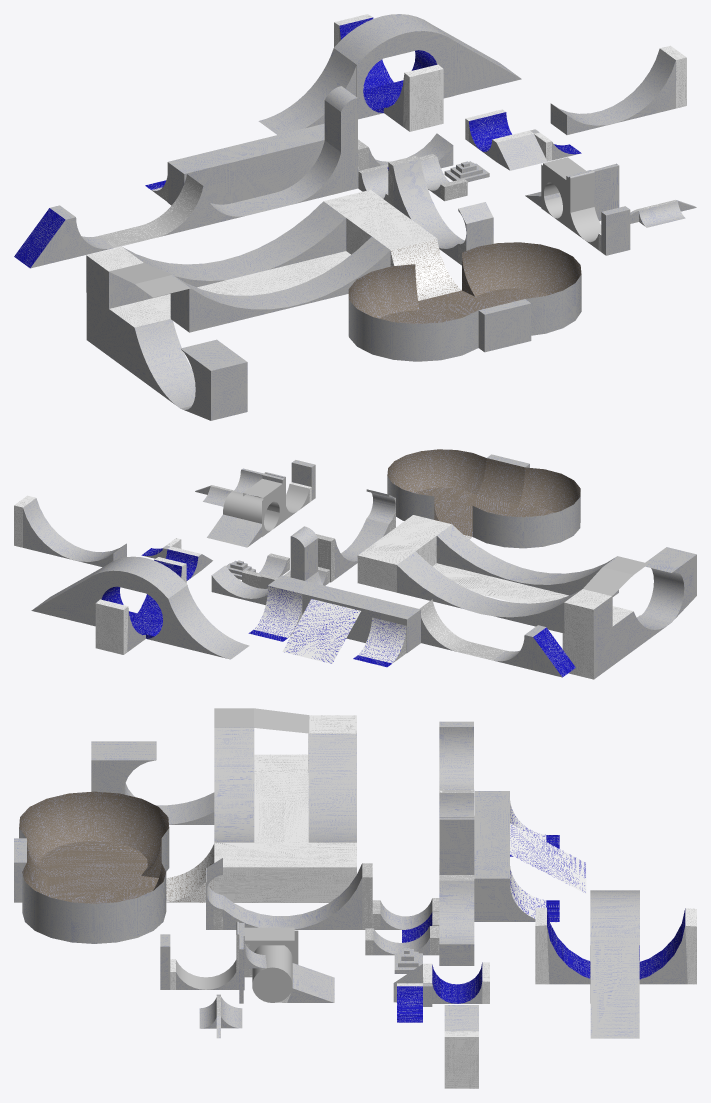
3 views of the same model, one above another, from view 1: azimuth 30°, elevation 25°; view 2: azimuth 150°, elevation 25°; view 3: azimuth 270°, elevation 25° (orthographic). The views are drawn at different scales.
Visible parts, largest first — view 1: SketchUp (×27), ske93 (×6); view 2: SketchUp (×29), ske93 (×6); view 3: SketchUp (×25), ske93 (×6).
Part boxes in pixels (x1,y1,x2,y2): SketchUp (×27): [14, 14, 686, 420]; ske93 (×6): [541, 157, 685, 255]; SketchUp (×29): [14, 449, 696, 679]; ske93 (×6): [207, 460, 315, 547]; SketchUp (×25): [14, 708, 696, 1088]; ske93 (×6): [160, 923, 334, 1003].
Bounding box in the file's own units: 6464 × 5442 × 1292.
